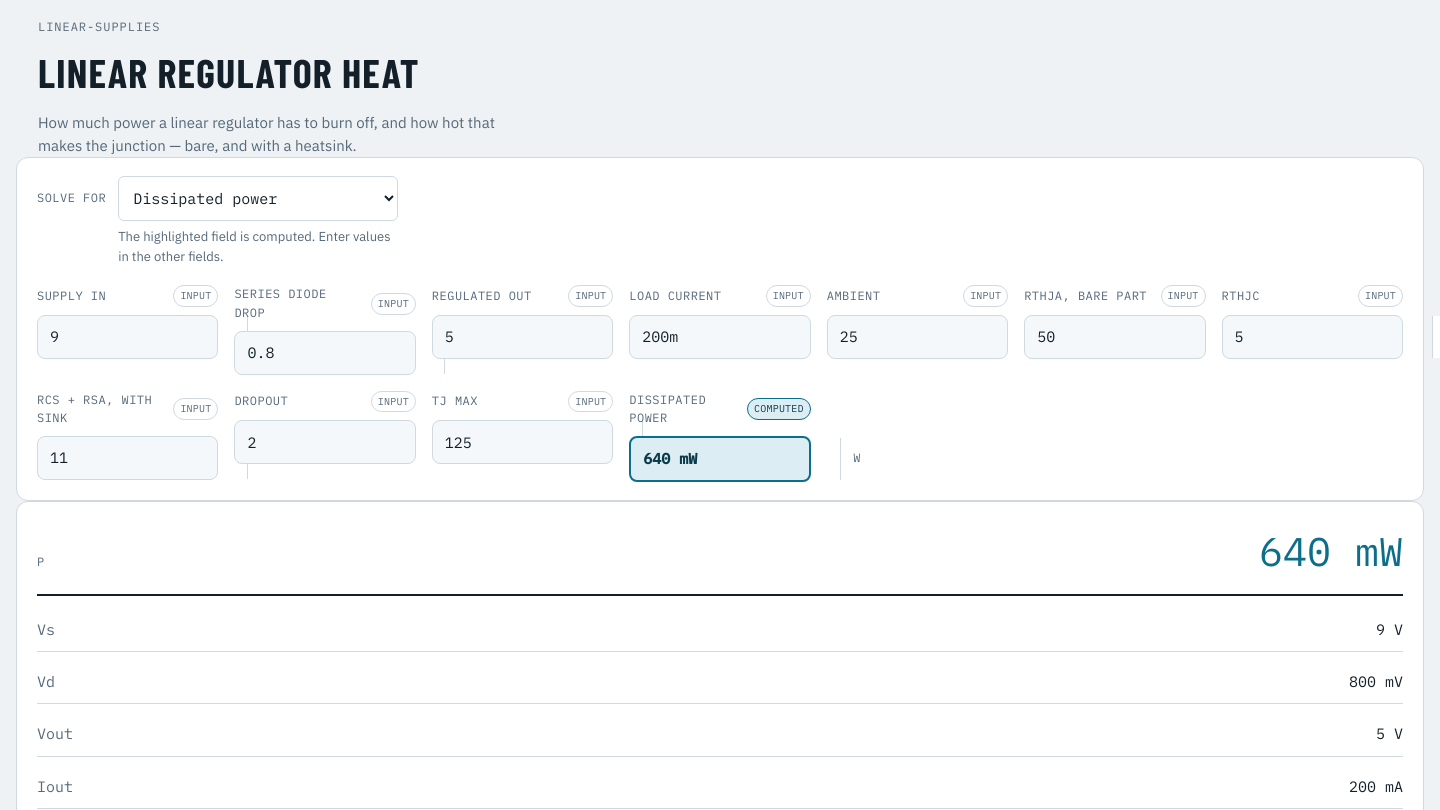
Test: RegulatorView › warns when Tj passes Tjmax
The width and height of the screenshot is (1440, 810).
Replace the text in the field labelled "Load current" with "0.7" at (735, 337), box [630,316,839,358]
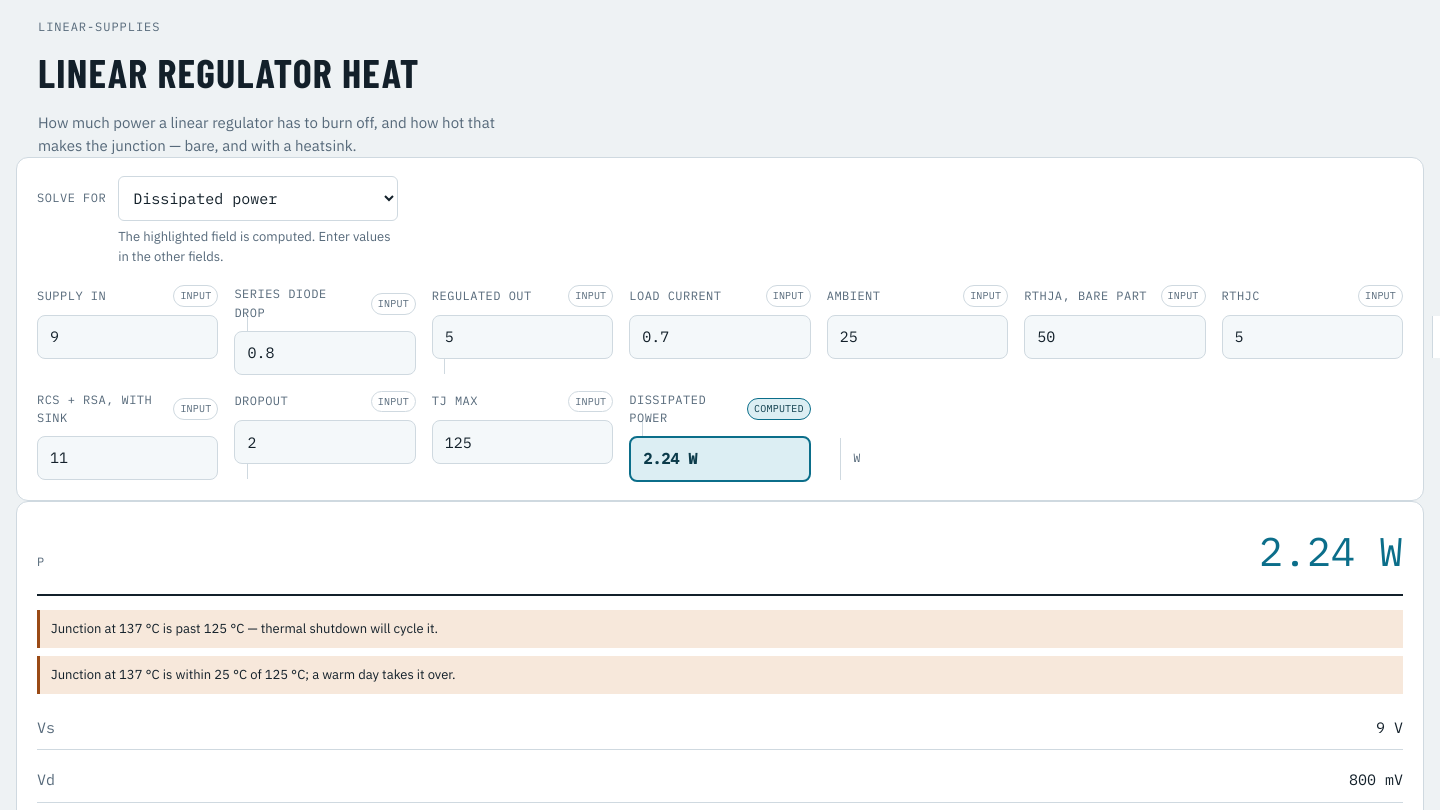
Check: the text "past 125" is shown, box [51,620,438,637]
